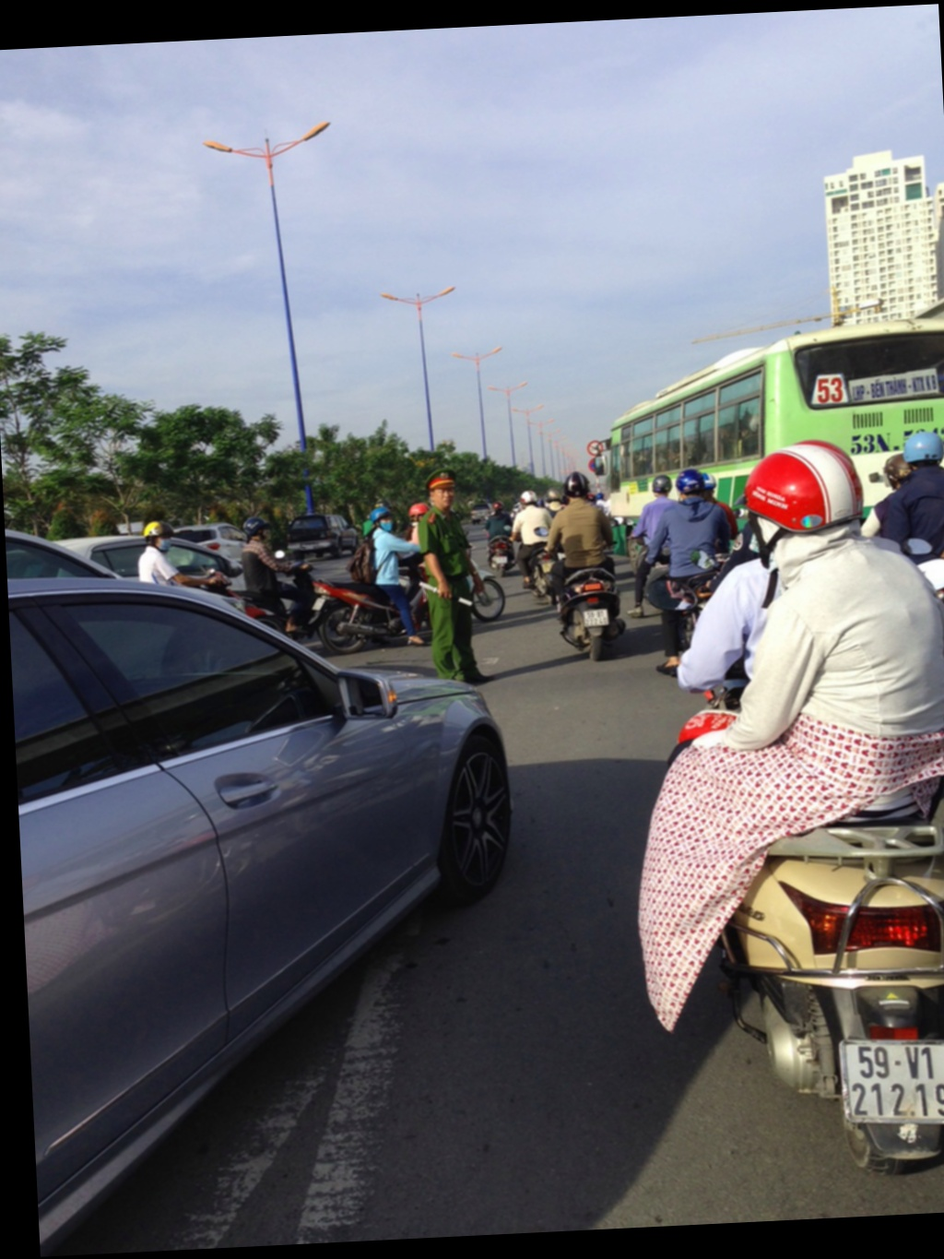Bien-so: (841, 1076, 944, 1164), (589, 631, 617, 655)
